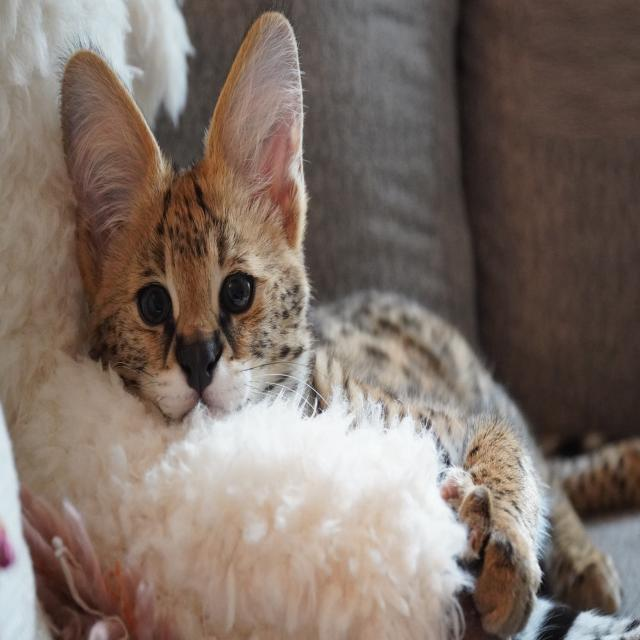Savannah: (55, 3, 640, 635)
